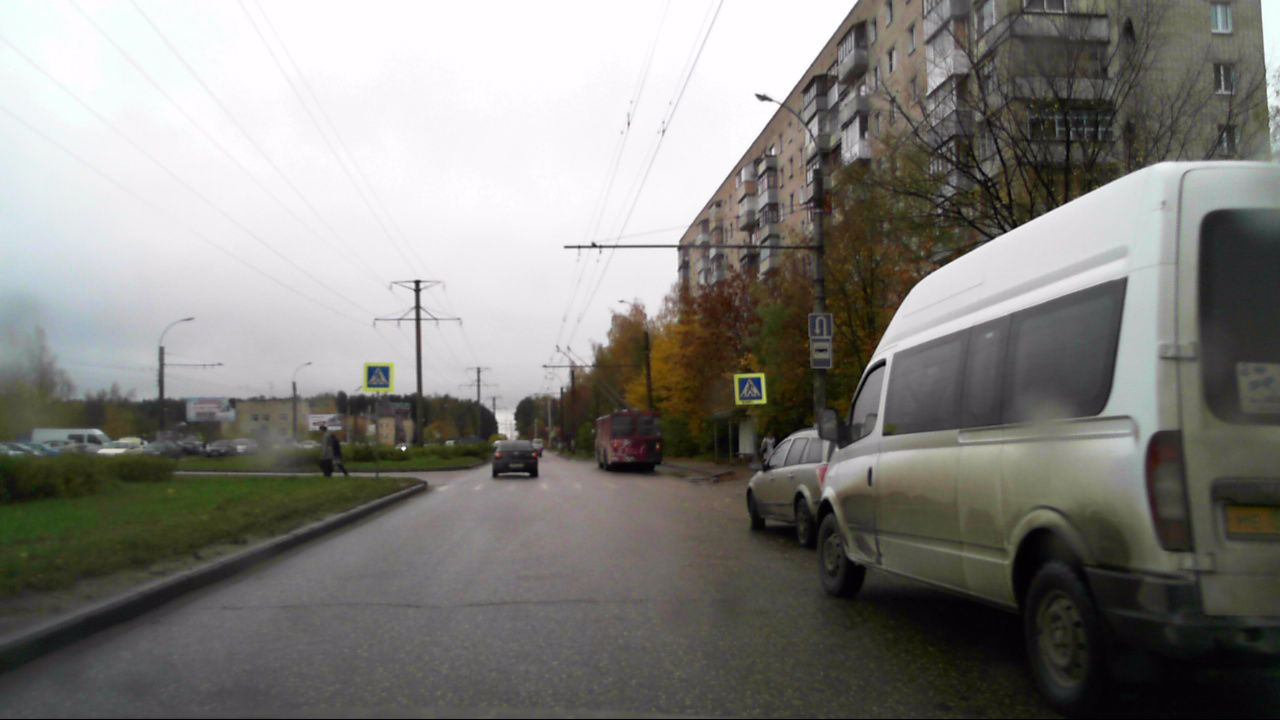U-turn: (809, 314, 832, 337)
